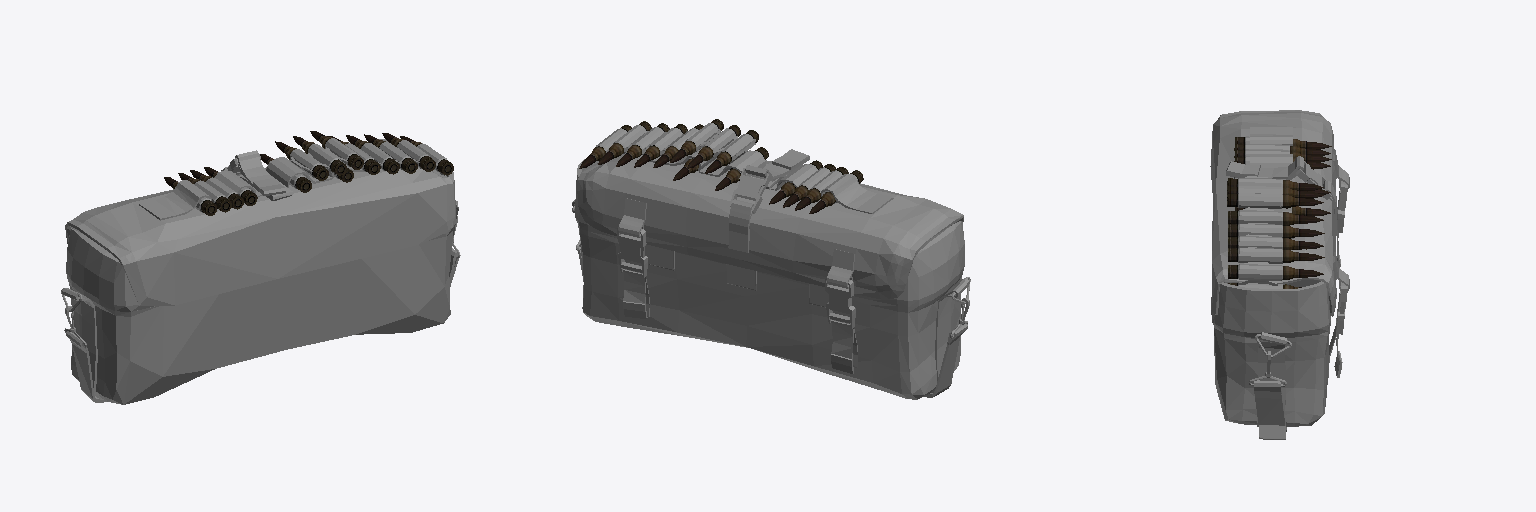
3 renders of one model, left to right at view 1: azimuth 30°, elevation 25°; view 2: azimuth 150°, elevation 25°; view 3: azimuth 270°, elevation 25°, orthographic.
Visible parts, largest first — view 1: AmmoBug, Bullets, Tape; view 2: AmmoBug, Bullets, Tape; view 3: AmmoBug, Tape, Bullets.
Part boxes in pixels (x1,y1,x2,y2): AmmoBug: (61, 139, 460, 404); Bullets: (164, 131, 453, 215); Tape: (194, 138, 446, 212); AmmoBug: (572, 148, 970, 399); Bullets: (579, 119, 863, 213); Tape: (596, 123, 858, 203); AmmoBug: (1210, 110, 1349, 439); Tape: (1238, 136, 1289, 288); Bullets: (1227, 137, 1331, 288).
Size of the model in its own units: 39.78 by 19.36 by 12.23.
2 materials, 1 textured.